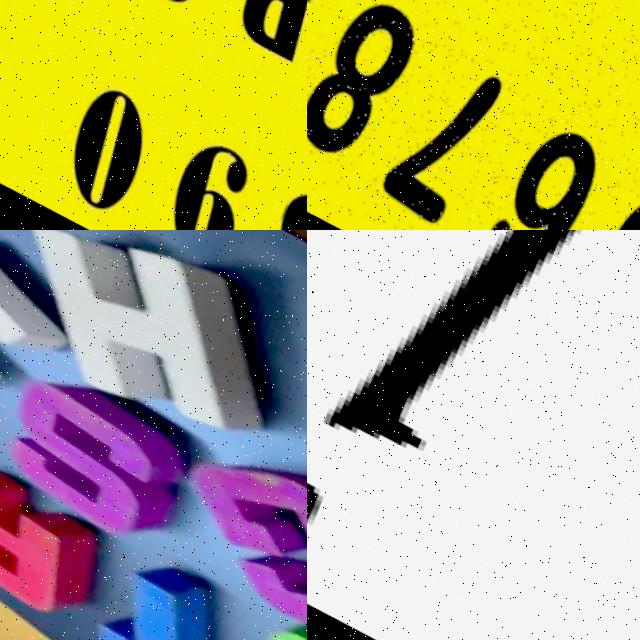0: (6, 54, 175, 230)
5: (521, 140, 640, 230)
6: (426, 80, 630, 230)
7: (341, 10, 537, 230)
8: (307, 0, 444, 217), (215, 162, 307, 230)
9: (115, 107, 271, 230), (307, 0, 359, 160)
A: (0, 434, 118, 633)
G: (146, 404, 307, 640)
H: (0, 230, 307, 473)
J: (307, 230, 640, 640)
S: (0, 349, 205, 554)
T: (53, 523, 290, 640)
Z: (0, 230, 77, 421)
